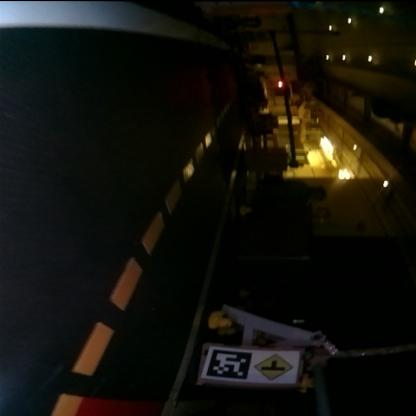Duckie: (209, 312, 231, 330), (218, 326, 236, 334), (240, 205, 252, 215), (240, 289, 250, 297)
Intersection sign: (257, 350, 297, 382)
QR code: (204, 349, 254, 380)
Traffic light: (277, 80, 285, 88)
